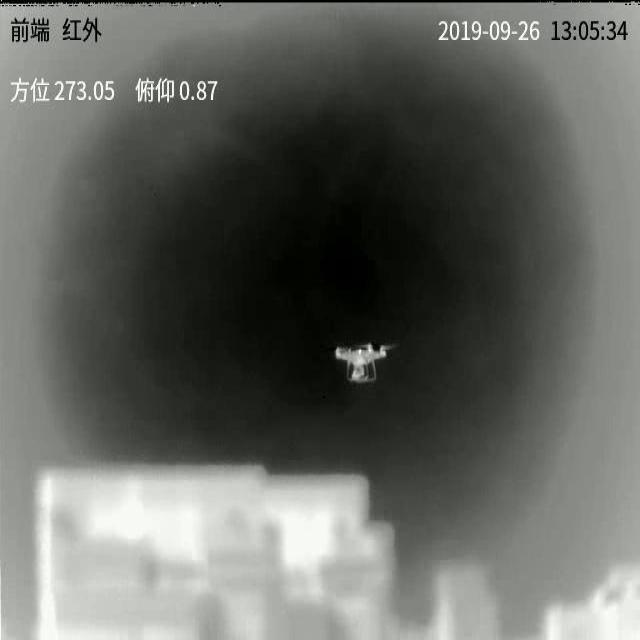drone: (335, 343, 395, 382)
